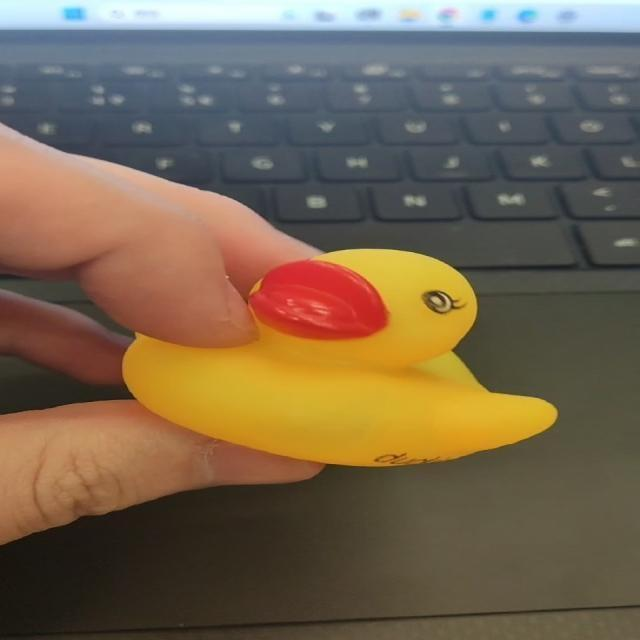rubber-duck: (122, 248, 555, 464)
